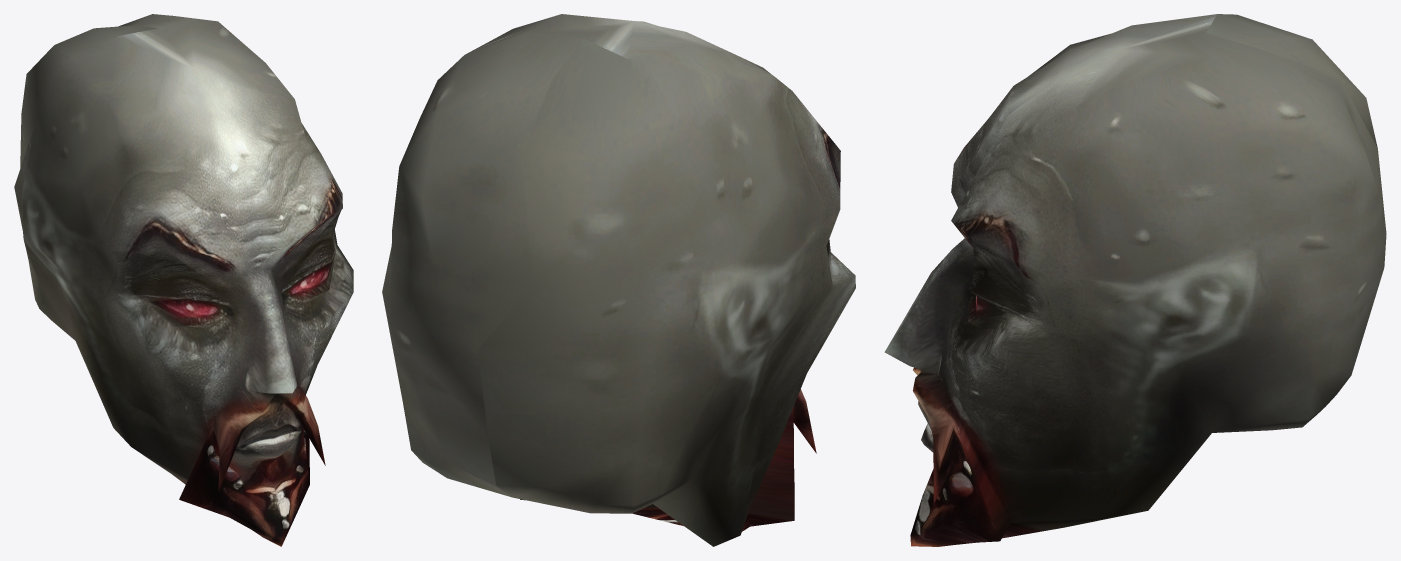
File: b_n_dark elf_m_head_02.glb
3 views of the same model, side by side, from view 1: azimuth 30°, elevation 25°; view 2: azimuth 150°, elevation 25°; view 3: azimuth 270°, elevation 25° (orthographic). The views are drawn at different scales.
Parts seen in each view (by area): view 1: Tri B_N_Dark Elf_M_Head_02; view 2: Tri B_N_Dark Elf_M_Head_02; view 3: Tri B_N_Dark Elf_M_Head_02.
Boxes of the visible parts, x1,y1,x2,y2 form: Tri B_N_Dark Elf_M_Head_02: (14, 14, 353, 546); Tri B_N_Dark Elf_M_Head_02: (382, 14, 855, 546); Tri B_N_Dark Elf_M_Head_02: (884, 14, 1386, 546).
Size of the model in its own units: 0.093 by 0.1603 by 0.1421.
1 material, 1 textured.
